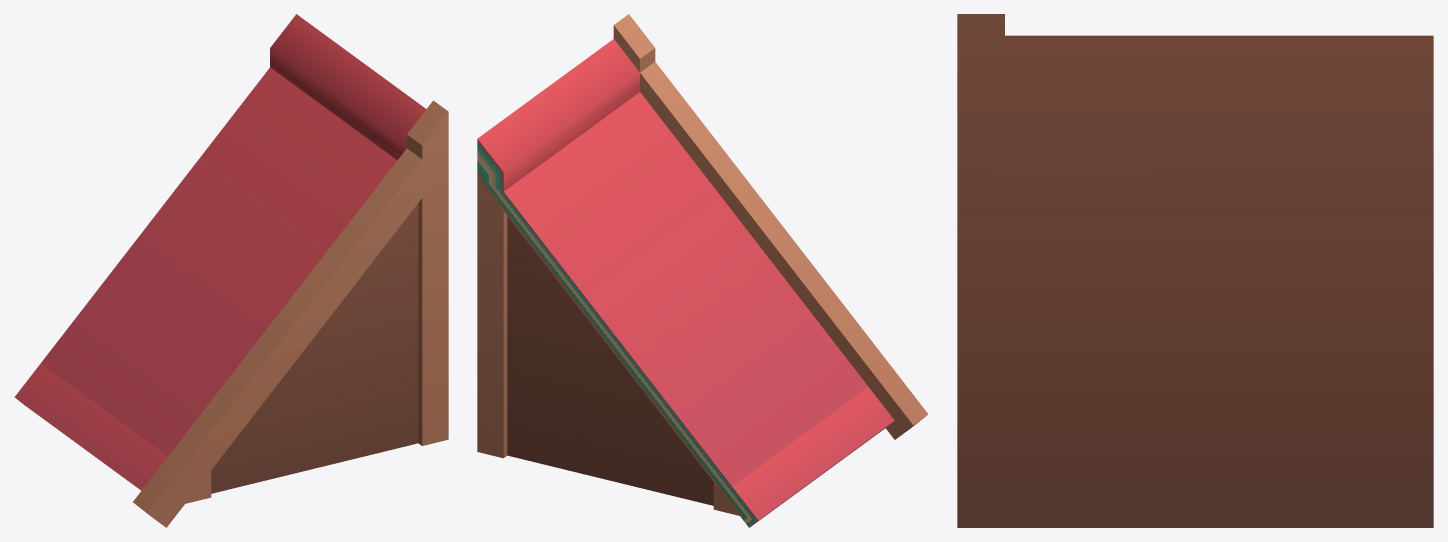
File: kenney-fantasy-town-roof-high-right.glb
3 renders of one model, left to right at view 1: azimuth 30°, elevation 25°; view 2: azimuth 150°, elevation 25°; view 3: azimuth 270°, elevation 25°, orthographic. The views are drawn at different scales.
Parts seen in each view (by area): view 1: roof-high-right; view 2: roof-high-right; view 3: roof-high-right.
Boxes of the visible parts, left/top/right/bottom form: roof-high-right: left=14, top=14, right=448, bottom=527; roof-high-right: left=477, top=14, right=928, bottom=527; roof-high-right: left=957, top=14, right=1433, bottom=527.
Bounding box in the file's own units: 1.14 × 1.26 × 1.
Materials: 1 (1 with a texture image).
